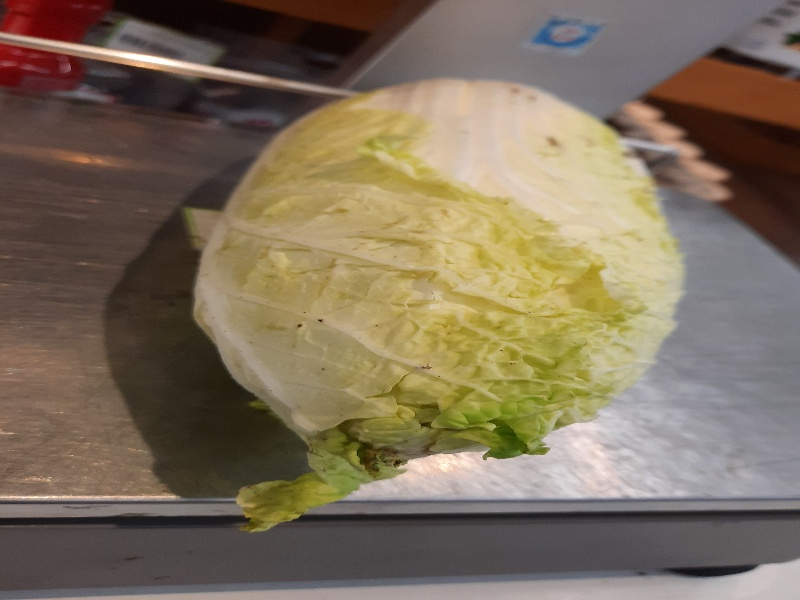vege: (186, 73, 686, 532)
